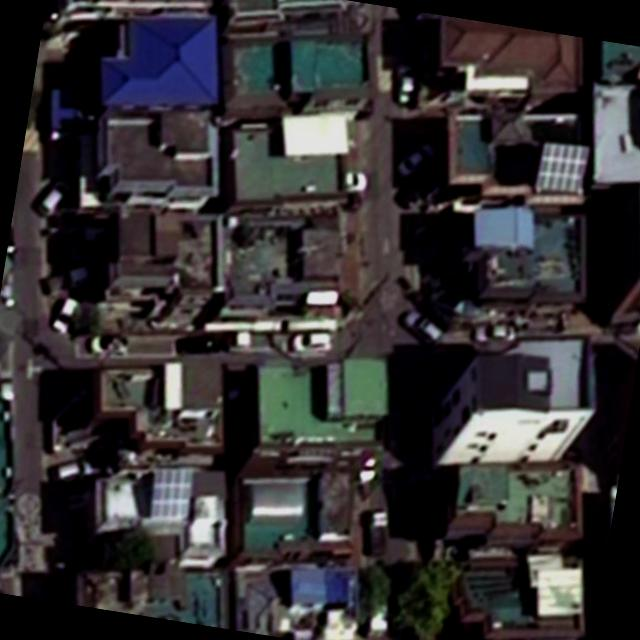solar: (534, 136, 590, 200), (146, 463, 200, 527)
